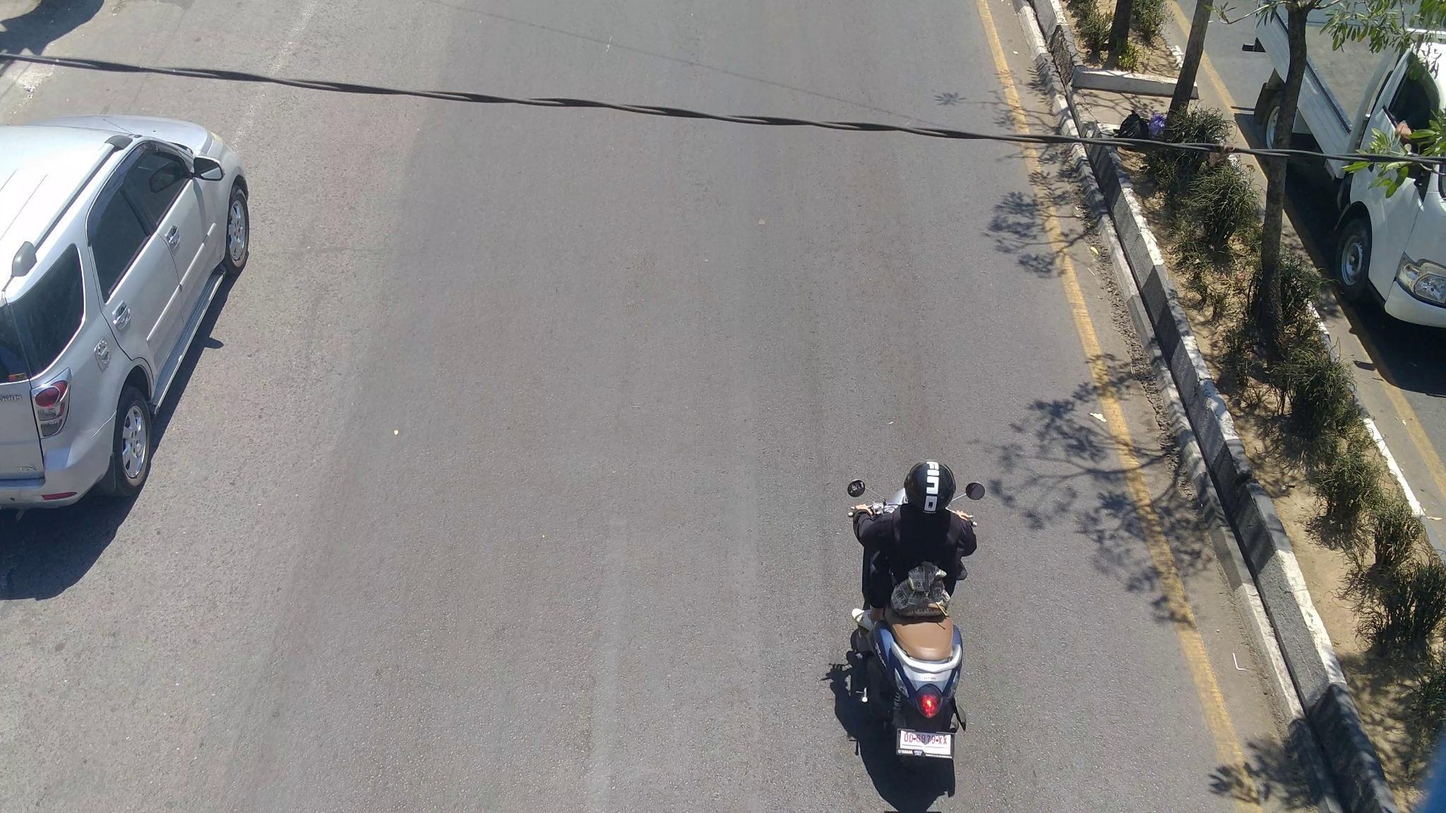Helmet: (897, 453, 960, 524)
bike: (843, 472, 990, 772)
number-plate: (898, 727, 954, 760)
rider: (850, 457, 979, 636)
